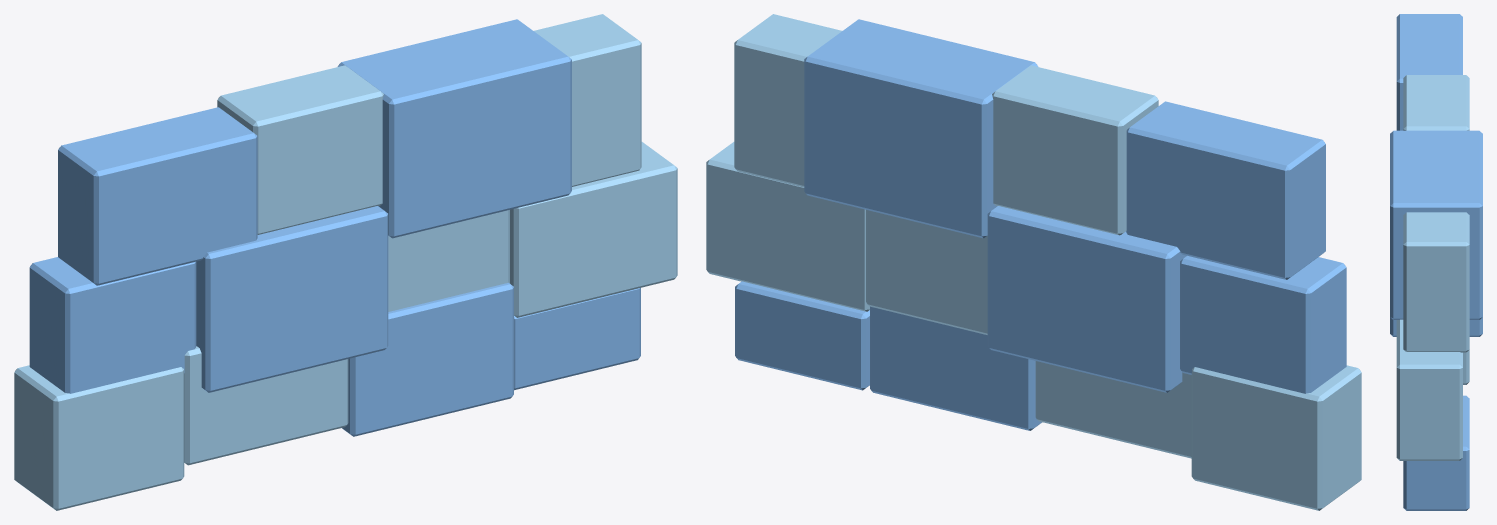
The model's file is Christmass_Wall.fbx.
The picture shows the model from 3 angles, left to right: view 1: azimuth 30°, elevation 25°; view 2: azimuth 150°, elevation 25°; view 3: azimuth 270°, elevation 25°; orthographic projection. The views are drawn at different scales.
Visible parts, largest first — view 1: Christmass_Wall; view 2: Christmass_Wall; view 3: Christmass_Wall.
Part boxes in pixels (<box>): Christmass_Wall: <box>14,14,677,510</box>; Christmass_Wall: <box>706,14,1361,510</box>; Christmass_Wall: <box>1390,14,1482,510</box>.
Size of the model in its own units: 27.9 by 94.83 by 182.
